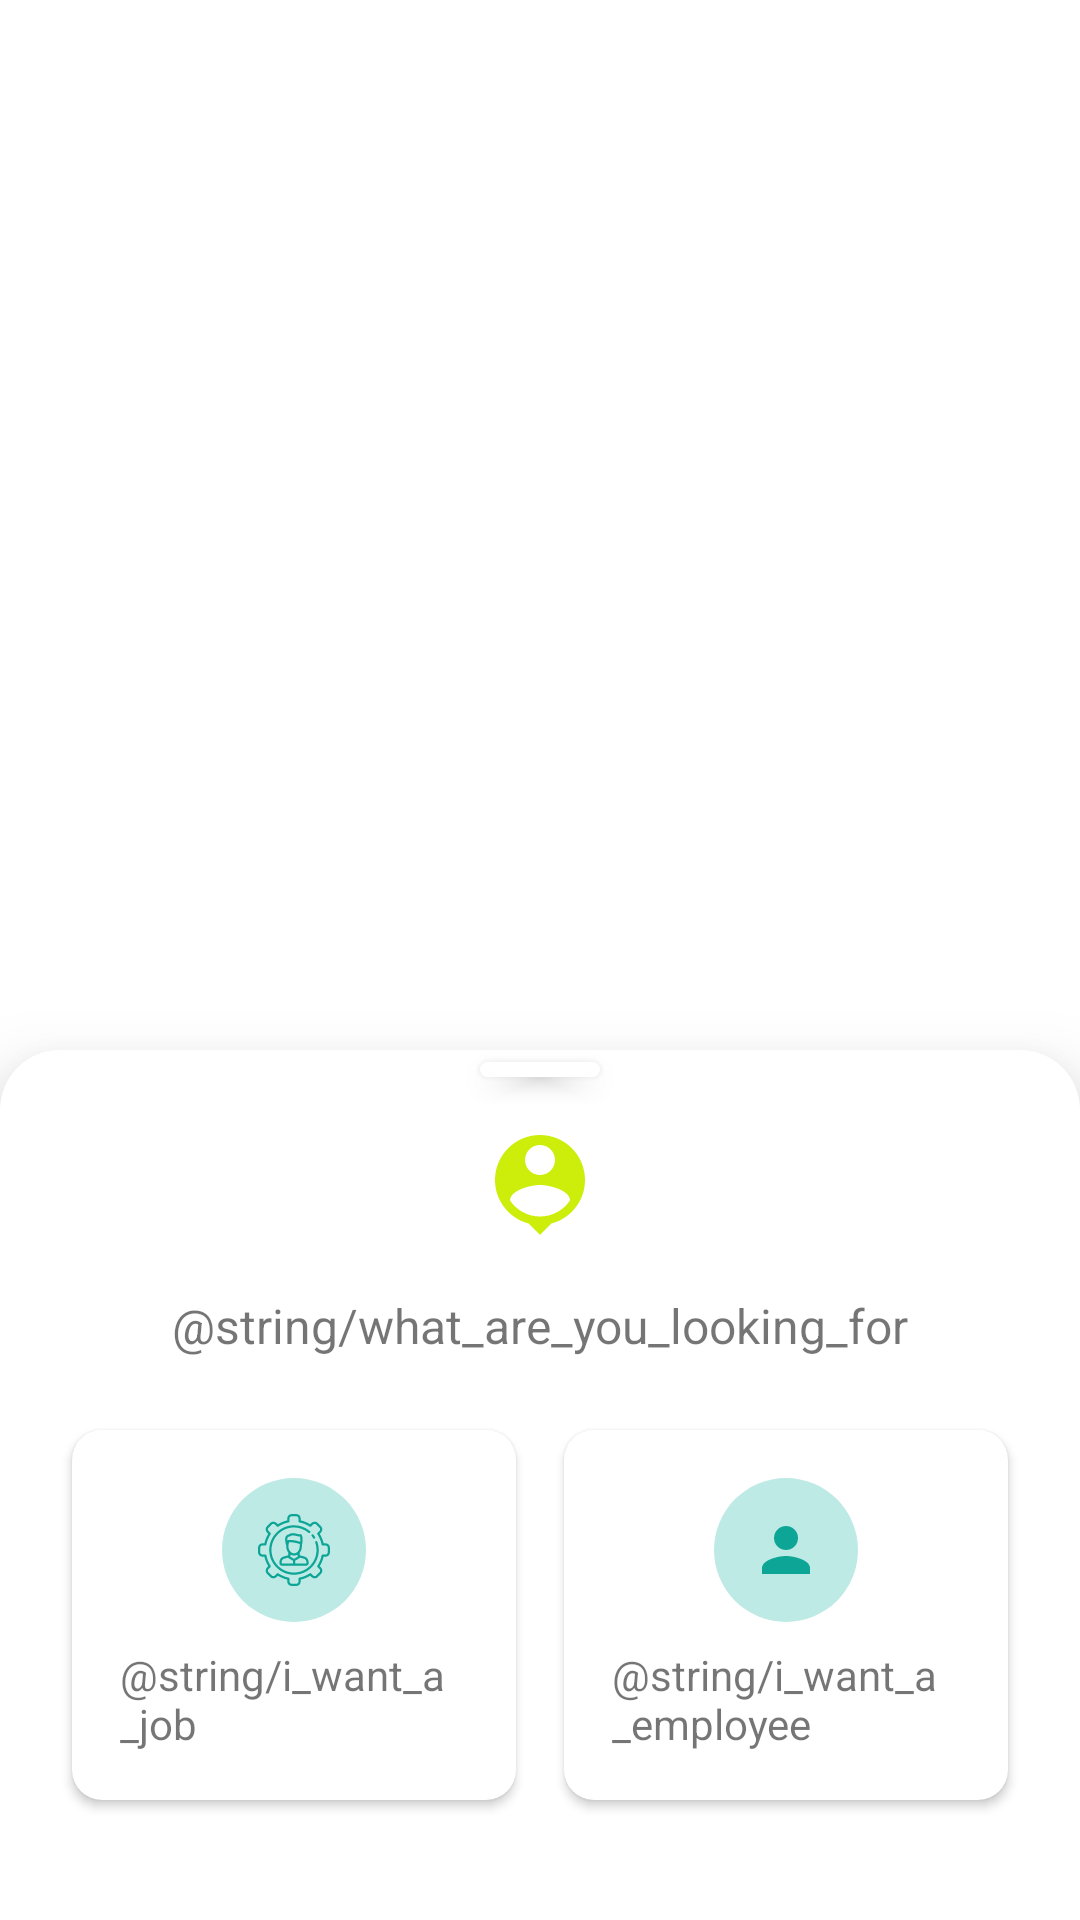

Screen size 1080*1920. Icon name, then its center in pixels as point (x, y):
person: point (786, 1550)
person pin: point (540, 1185)
